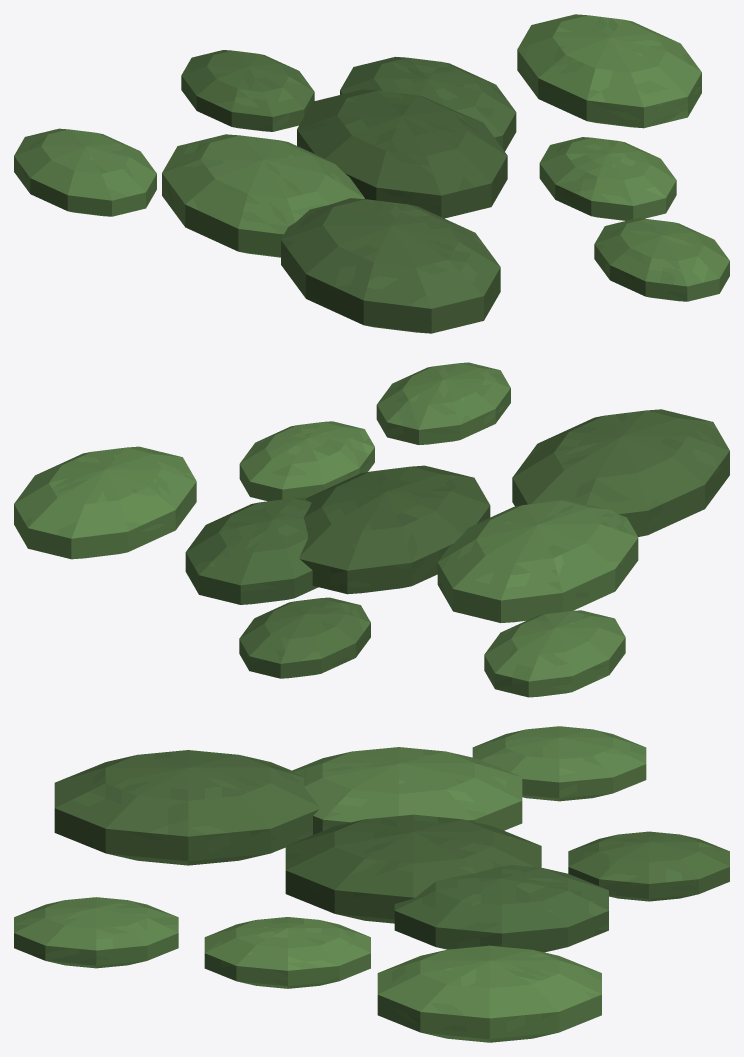
File: seed_bee_balm.glb
3 views of the same model, one above another, from view 1: azimuth 30°, elevation 25°; view 2: azimuth 150°, elevation 25°; view 3: azimuth 270°, elevation 25° (orthographic).
Visible parts, largest first — view 1: block_grain 5, block_grain 0, block_grain 6, block_grain 2, block_grain 7, block_grain 3, block_grain 8, block_grain 4, block_grain 1; view 2: block_grain 5, block_grain 2, block_grain 0, block_grain 6, block_grain 1, block_grain 7, block_grain 8, block_grain 4, block_grain 3; view 3: block_grain 5, block_grain 6, block_grain 0, block_grain 1, block_grain 2, block_grain 3, block_grain 8, block_grain 7, block_grain 4.
Part boxes in pixels (left/top/right/bottom): block_grain 5: left=281, top=198, right=500, bottom=333; block_grain 0: left=297, top=89, right=507, bottom=218; block_grain 6: left=517, top=14, right=701, bottom=128; block_grain 2: left=162, top=134, right=364, bottom=257; block_grain 7: left=14, top=128, right=156, bottom=216; block_grain 3: left=539, top=137, right=676, bottom=220; block_grain 8: left=594, top=218, right=729, bottom=301; block_grain 4: left=181, top=50, right=314, bottom=131; block_grain 1: left=340, top=56, right=516, bottom=151; block_grain 5: left=512, top=409, right=729, bottom=536; block_grain 2: left=437, top=500, right=638, bottom=622; block_grain 0: left=299, top=465, right=490, bottom=594; block_grain 6: left=14, top=446, right=196, bottom=559; block_grain 1: left=185, top=497, right=318, bottom=604; block_grain 7: left=484, top=610, right=625, bottom=697; block_grain 8: left=376, top=362, right=510, bottom=444; block_grain 4: left=239, top=597, right=370, bottom=678; block_grain 3: left=239, top=421, right=374, bottom=501; block_grain 5: left=54, top=750, right=319, bottom=865; block_grain 6: left=377, top=945, right=601, bottom=1042; block_grain 0: left=285, top=814, right=541, bottom=923; block_grain 1: left=394, top=865, right=608, bottom=952; block_grain 2: left=292, top=747, right=522, bottom=834; block_grain 3: left=204, top=917, right=370, bottom=988; block_grain 8: left=14, top=897, right=178, bottom=968; block_grain 7: left=472, top=726, right=646, bottom=801; block_grain 4: left=568, top=831, right=729, bottom=901.
Size of the model in its own units: 0.0218 by 0.00272 by 0.022.
Materials: 1 (1 with a texture image).
